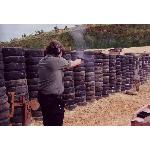Pistol: (74, 54, 84, 66)
